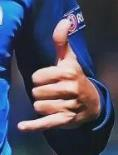clockwise: (16, 16, 97, 134)
